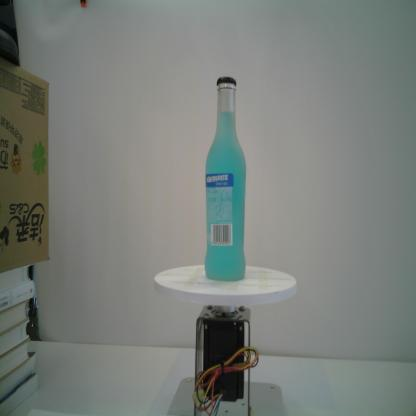Alcohol: (202, 75, 248, 283)
